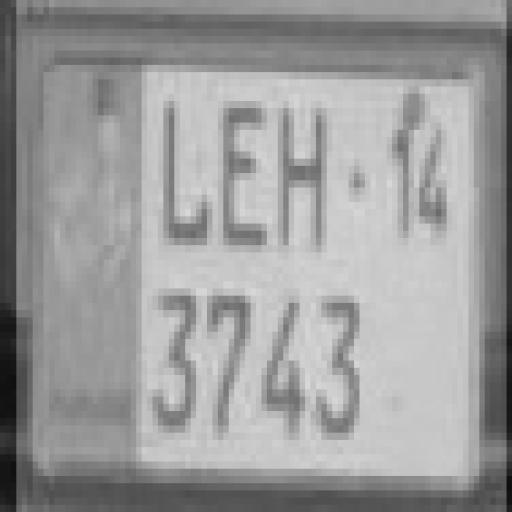3: (310, 281, 378, 455), (152, 289, 196, 440)
4: (256, 286, 308, 449)
7: (198, 278, 253, 433)
E: (217, 91, 272, 261)
H: (274, 94, 340, 254)
L: (163, 98, 211, 248)
